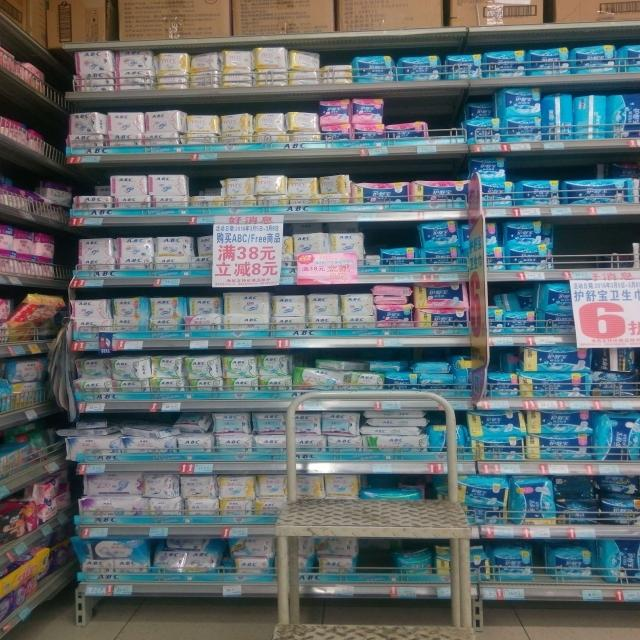empty: (553, 230, 630, 266), (355, 536, 397, 578), (427, 101, 463, 134)
